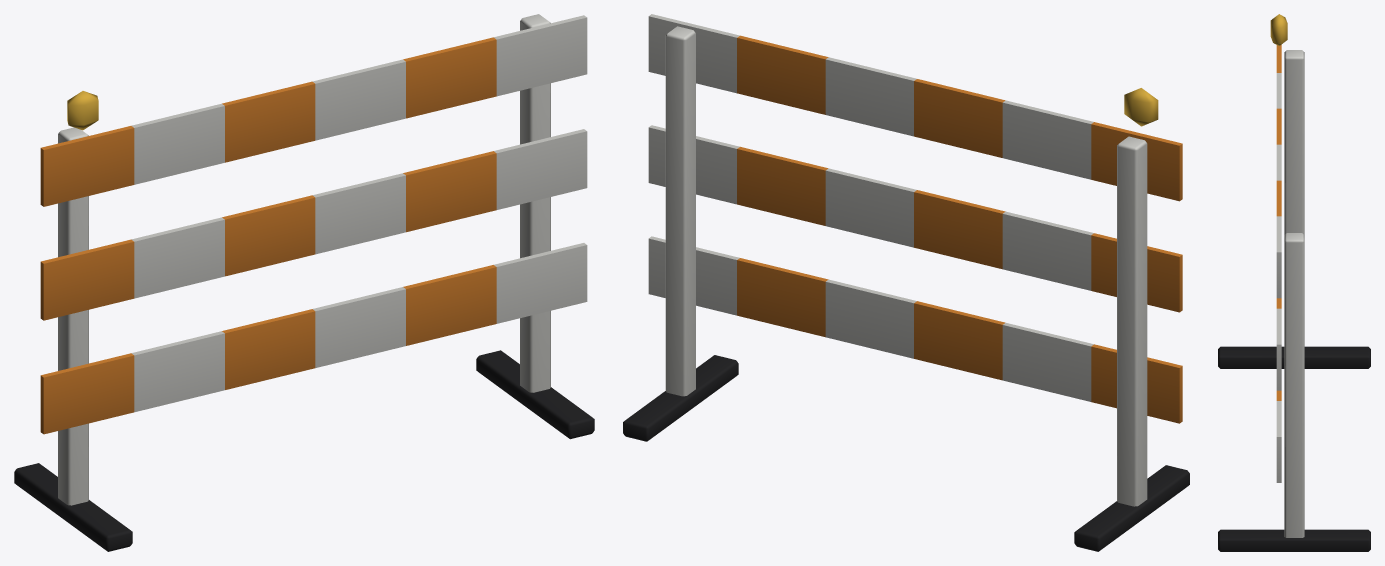
File: BarricadeMIA.fbx
3 renders of one model, left to right at view 1: azimuth 30°, elevation 25°; view 2: azimuth 150°, elevation 25°; view 3: azimuth 270°, elevation 25°, orthographic. The views are drawn at different scales.
Visible parts, largest first — view 1: BarricadeMIA; view 2: BarricadeMIA; view 3: BarricadeMIA.
Part boxes in pixels (bbox=[...]): BarricadeMIA: bbox=[14, 14, 594, 551]; BarricadeMIA: bbox=[623, 14, 1189, 551]; BarricadeMIA: bbox=[1218, 14, 1370, 551].
Size of the model in its own units: 2 by 1.52 by 0.6.
